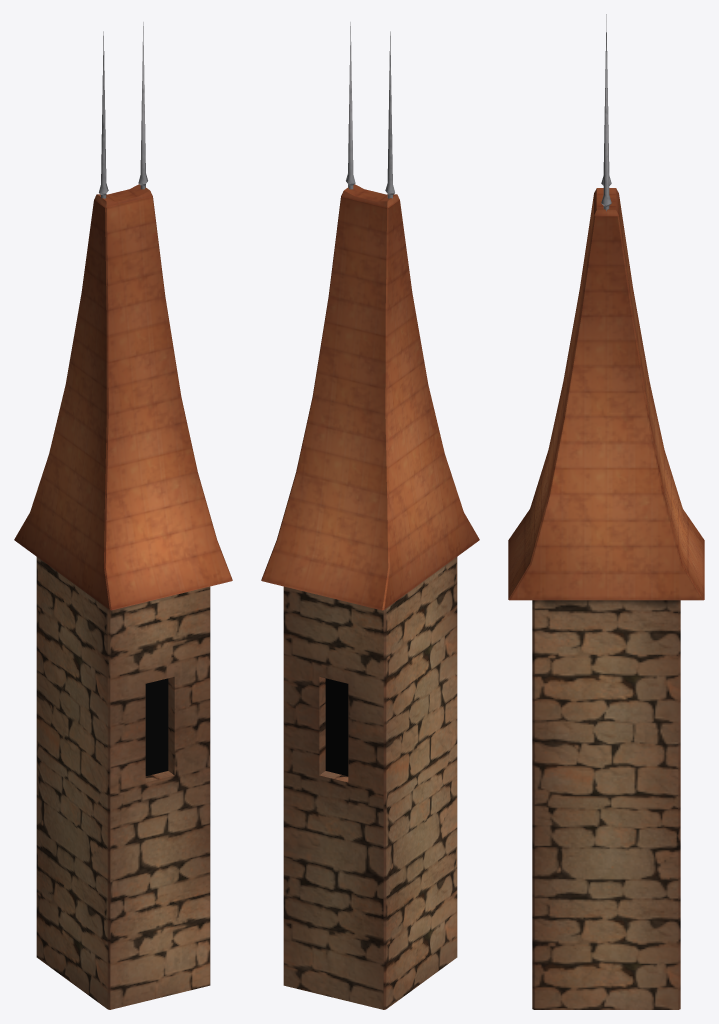
Rendered from sb_obj_outdoor001_Castle01_hut00.fbx.
3 views of the same model, side by side, from view 1: azimuth 30°, elevation 25°; view 2: azimuth 150°, elevation 25°; view 3: azimuth 270°, elevation 25° (orthographic).
Parts seen in each view (by area): view 1: sb_obj_outdoor001_Castle01_hut00; view 2: sb_obj_outdoor001_Castle01_hut00; view 3: sb_obj_outdoor001_Castle01_hut00.
Boxes of the visible parts, x1,y1,x2,y2 form: sb_obj_outdoor001_Castle01_hut00: [14, 22, 232, 1009]; sb_obj_outdoor001_Castle01_hut00: [261, 22, 479, 1009]; sb_obj_outdoor001_Castle01_hut00: [508, 14, 704, 1009].
Size of the model in its own units: 0.8486 by 6.28 by 1.16.
